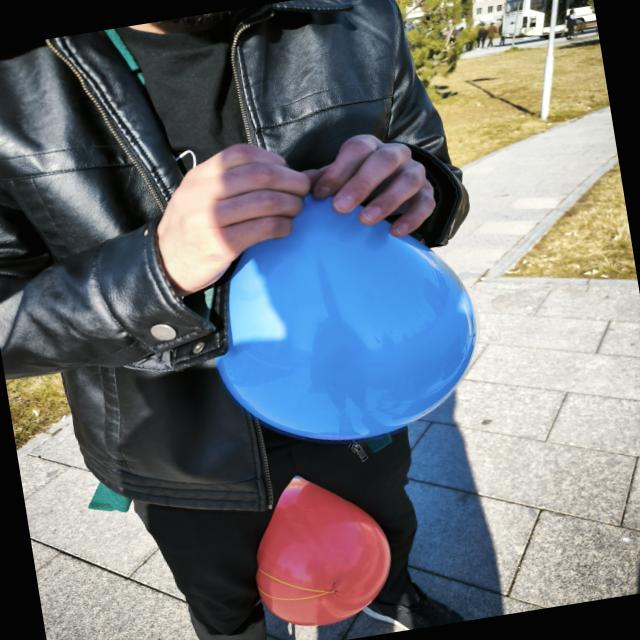balloon: (215, 195, 477, 441), (256, 478, 390, 625)
